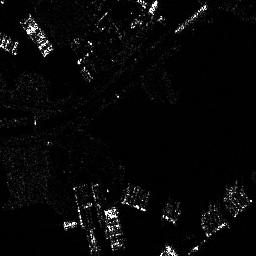ship: (173, 2, 208, 34)
